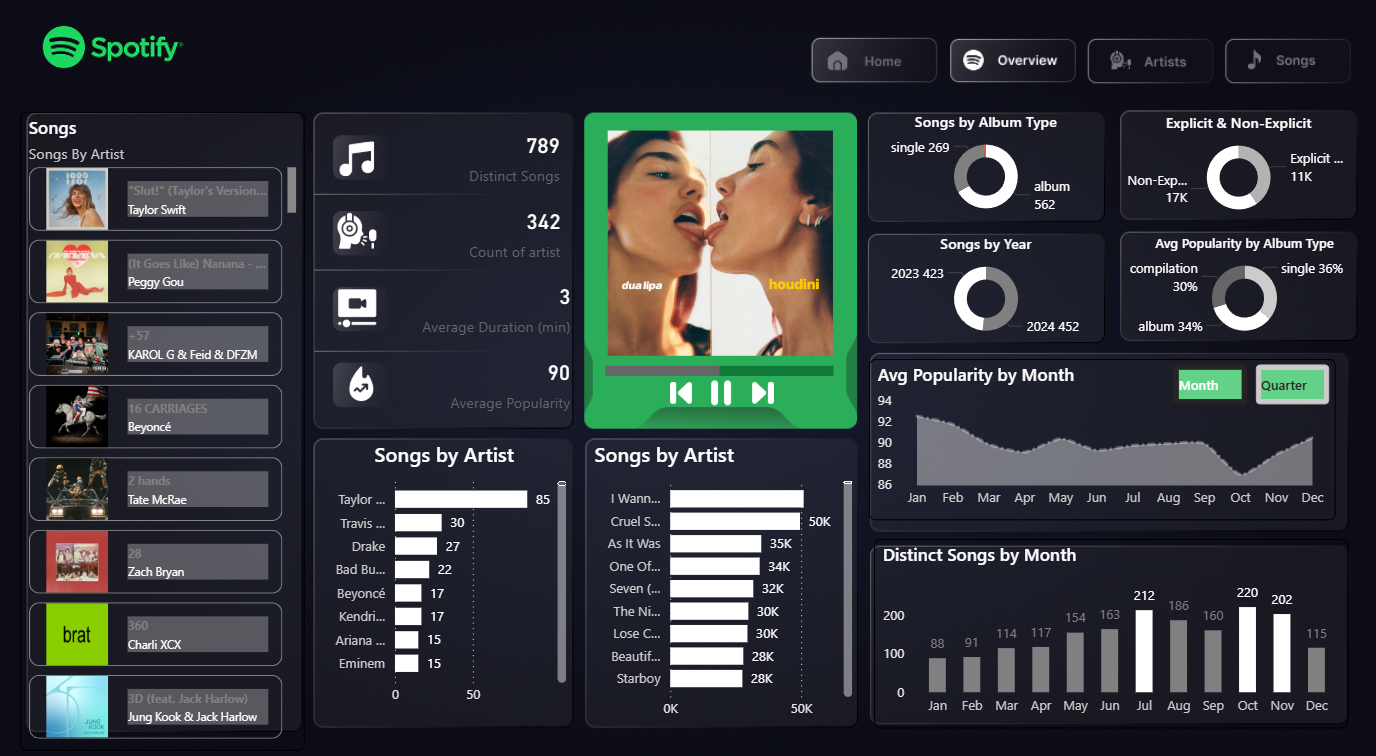

The dashboard page shown, as its layout file describes it:
{"tool":"powerbi","page":{"name":"Overview","canvas":[1280,720],"ordinal":0},"visuals":[{"type":"clusteredBarChart","title":"Songs by Artist","fields":{"Category":["Top-50-World.artist"],"Y":["_Measures.Distinct Songs"]},"box":[299.2,413.3,235.2,253.2],"z":0},{"type":"clusteredBarChart","title":"Songs by Artist","fields":{"Category":["Top-50-World.song"],"Y":["Sum(Top-50-World.popularity)"]},"box":[550.4,413.3,248.2,266.2],"z":1000},{"type":"areaChart","title":"Avg Popularity by Month","fields":{"Category":["Top-50-World.Month"],"Y":["_Measures.Average Popularity"]},"box":[809.2,338.5,430.9,148.8],"z":2000},{"type":"advancedSlicerVisual","fields":{"Values":["Slicer_option.Slicer_option"]},"box":[1085.5,338.5,154.7,47.7],"z":3000},{"type":"donutChart","title":"Songs by Album Type","fields":{"Category":["Top-50-World.album_type"],"Y":["_Measures.Distinct Songs"]},"box":[809.2,110.9,215.9,102.1],"z":4000},{"type":"donutChart","title":"Explicit & Non-Explicit","fields":{"Y":["_Measures.Explicit Song Count","_Measures.Non-Explicit Song Count"]},"box":[1043,111.3,215.5,102.2],"z":5000},{"type":"donutChart","title":"Songs by Year","fields":{"Y":["_Measures.Distinct Songs"],"Category":["Top-50-World.Year"]},"box":[813.6,223.5,206.9,102.5],"z":6000},{"type":"donutChart","title":"Avg Popularity by Album Type","fields":{"Category":["Top-50-World.album_type"],"Y":["_Measures.Average Popularity"]},"box":[1042.7,223.5,226.3,102.5],"z":7000},{"type":"clusteredColumnChart","fields":{"Category":["Top-50-World.Month"],"Y":["_Measures.Distinct Songs"]},"box":[813.6,505.2,437.7,174.5],"z":8000},{"type":"cardVisual","fields":{"Data":["_Measures.Distinct Songs"]},"box":[392.5,110.8,148.7,86.8],"z":9000},{"type":"cardVisual","fields":{"Data":["Count(Top-50-World.artist)"]},"box":[374,183.8,167.2,78.5],"z":10000},{"type":"cardVisual","fields":{"Data":["_Measures.Average Duration (min)"]},"box":[345.4,253,205,76.7],"z":11000},{"type":"cardVisual","fields":{"Data":["_Measures.Average Popularity"]},"box":[374,323.2,176.4,73],"z":12000},{"type":"image","box":[324.2,340.8,41.6,42.5],"z":13000},{"type":"image","box":[313.1,197.6,46.2,46.2],"z":14000},{"type":"image","box":[314.9,133,41.6,41.6],"z":15000},{"type":"image","box":[310.3,265.1,51.7,53.6],"z":16000},{"type":"advancedSlicerVisual","title":"Songs ","fields":{"Values":["Top-50-World.song"]},"box":[24.9,110.8,263.2,590.1],"z":17000},{"type":"cardVisual","fields":{"Data":["Min(Top-50-World.album_cover_url)"]},"box":[380.4,18.6,407,424.7],"z":18000},{"type":"hundredPercentStackedBarChart","fields":{"Y":["_Measures.Average Popularity","Avg(Top-50-World.popularity)"]},"box":[560.6,310.3,220.7,73],"z":19000},{"type":"image","box":[691.7,353.7,38.8,33.2],"z":20000},{"type":"image","box":[617.8,353.7,35.1,33.2],"z":21000},{"type":"image","box":[652.9,353.7,38.8,33.2],"z":22000},{"type":"shape","box":[546.2,110.8,251.8,294.4],"z":23000},{"type":"actionButton","box":[758.2,44.3,112.7,39.7],"z":24000},{"type":"actionButton","box":[886.6,44.3,112.7,39.7],"z":25000},{"type":"actionButton","box":[1010.3,44.3,112.7,39.7],"z":26000},{"type":"actionButton","box":[1137.8,44.3,112.7,39.7],"z":27000}]}

Visuals, with their boxes in screenshot pixels (x1, y1, x2, y2), scaled from the page's 1280x720 canvas onto the 1376x756 screenshot:
"Songs by Artist" clusteredBarChart: region(322, 434, 574, 700)
"Songs by Artist" clusteredBarChart: region(592, 434, 858, 713)
"Avg Popularity by Month" areaChart: region(870, 355, 1333, 512)
advancedSlicerVisual - Slicer_option.Slicer_option: region(1167, 355, 1333, 406)
"Songs by Album Type" donutChart: region(870, 116, 1102, 224)
"Explicit & Non-Explicit" donutChart: region(1121, 117, 1353, 224)
"Songs by Year" donutChart: region(875, 235, 1097, 342)
"Avg Popularity by Album Type" donutChart: region(1121, 235, 1364, 342)
clusteredColumnChart - Top-50-World.Month x _Measures.Distinct Songs: region(875, 530, 1345, 714)
cardVisual - _Measures.Distinct Songs: region(422, 116, 582, 207)
cardVisual - Count(Top-50-World.artist): region(402, 193, 582, 275)
cardVisual - _Measures.Average Duration (min): region(371, 266, 592, 346)
cardVisual - _Measures.Average Popularity: region(402, 339, 592, 416)
image: region(349, 358, 393, 402)
image: region(337, 207, 386, 256)
image: region(339, 140, 383, 183)
image: region(334, 278, 389, 335)
"Songs " advancedSlicerVisual: region(27, 116, 310, 736)
cardVisual - Min(Top-50-World.album_cover_url): region(409, 20, 846, 465)
hundredPercentStackedBarChart - _Measures.Average Popularity x Avg(Top-50-World.popularity): region(603, 326, 840, 402)
image: region(744, 371, 785, 406)
image: region(664, 371, 702, 406)
image: region(702, 371, 744, 406)
shape: region(587, 116, 858, 425)
actionButton: region(815, 47, 936, 88)
actionButton: region(953, 47, 1074, 88)
actionButton: region(1086, 47, 1207, 88)
actionButton: region(1223, 47, 1344, 88)
